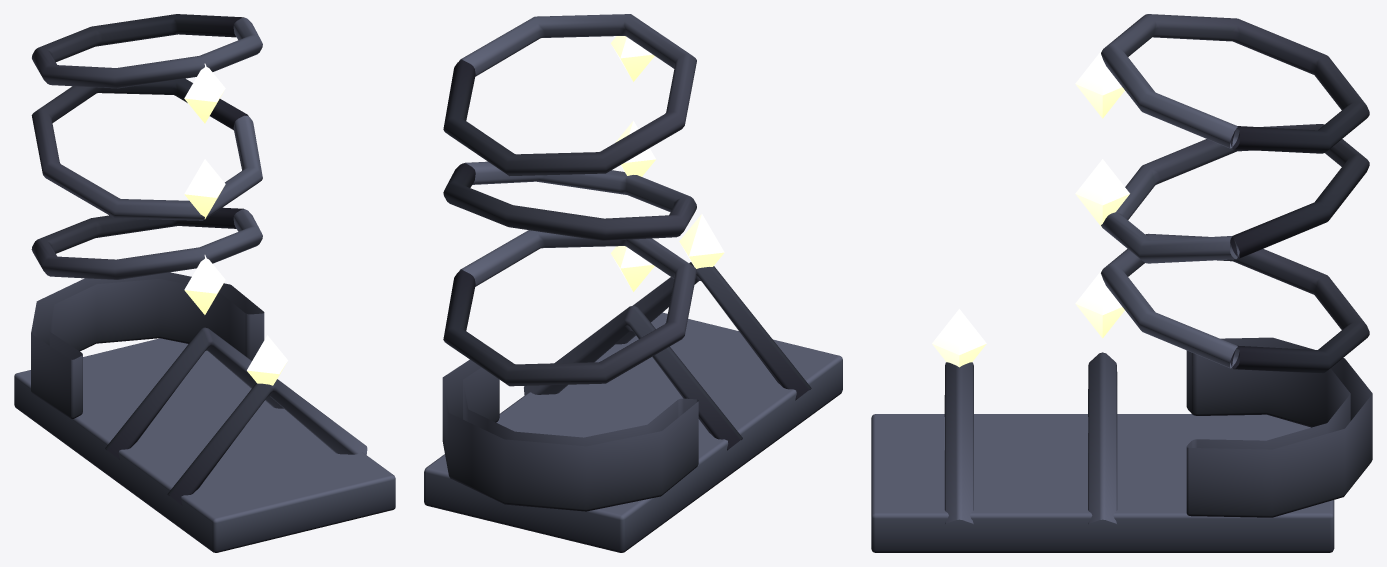
File: lg_starstride_sandals.glb
The picture shows the model from 3 angles, left to right: view 1: azimuth 30°, elevation 25°; view 2: azimuth 150°, elevation 25°; view 3: azimuth 270°, elevation 25°; orthographic projection. The views are drawn at different scales.
Visible parts, largest first — view 1: lg_starstride_sandals, lg_starstride_sandals_glow; view 2: lg_starstride_sandals, lg_starstride_sandals_glow; view 3: lg_starstride_sandals, lg_starstride_sandals_glow.
Boxes of the visible parts, x1,y1,x2,y2 form: lg_starstride_sandals: (14,14,395,552); lg_starstride_sandals_glow: (184,63,287,385); lg_starstride_sandals: (424,14,842,552); lg_starstride_sandals_glow: (611,36,724,291); lg_starstride_sandals: (871,14,1372,552); lg_starstride_sandals_glow: (932,49,1129,367).
Bounding box in the file's own units: 0.5027 × 0.919 × 0.91.
